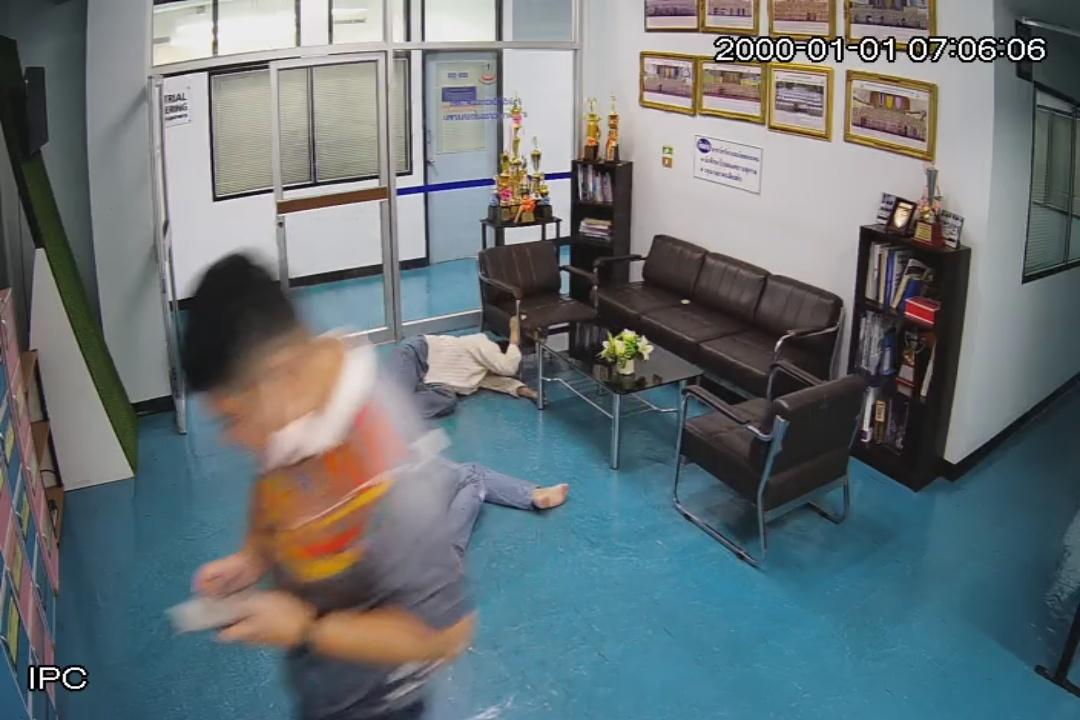fall: (374, 315, 530, 421)
normal: (151, 256, 478, 720)
